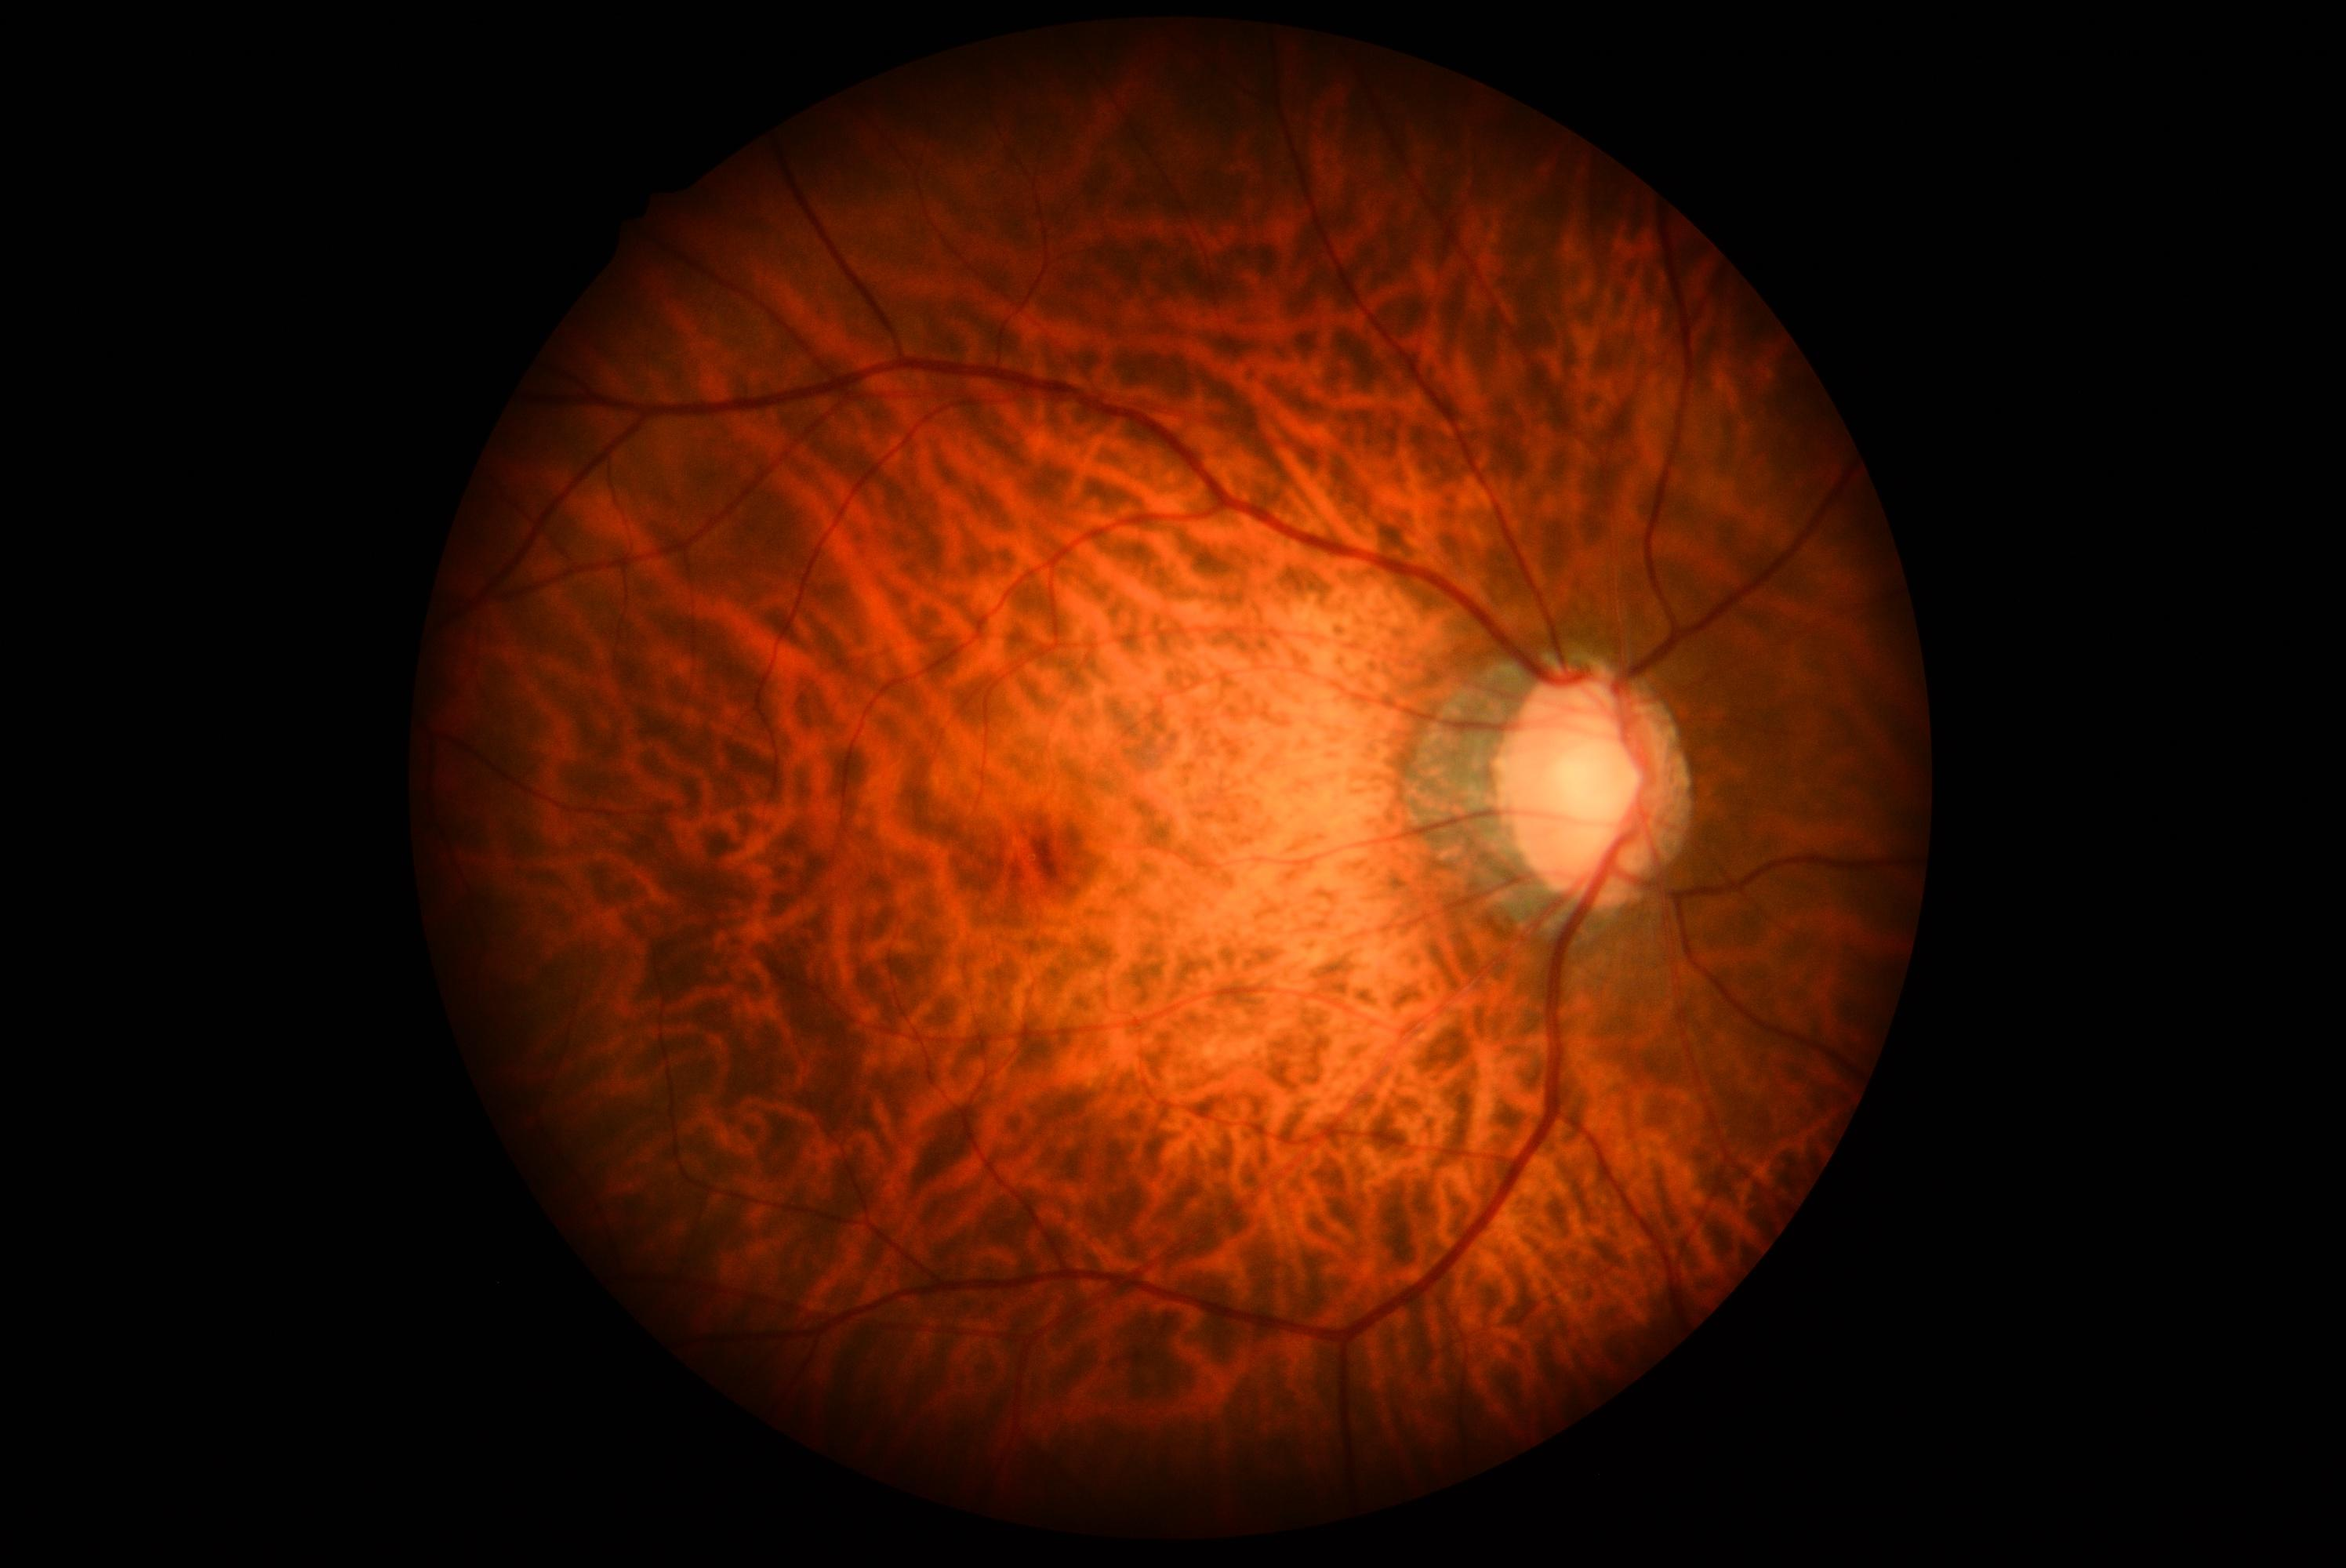Fovea: (974, 788, 1118, 929)
